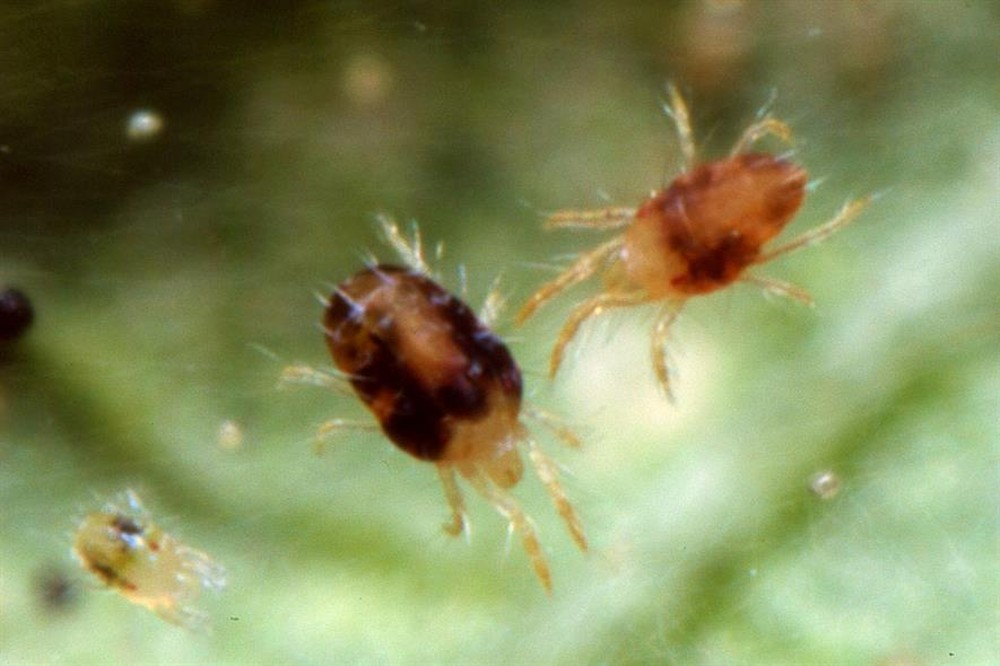Aracnido Rojo: (517, 72, 872, 388), (289, 229, 599, 589), (51, 484, 241, 645)
